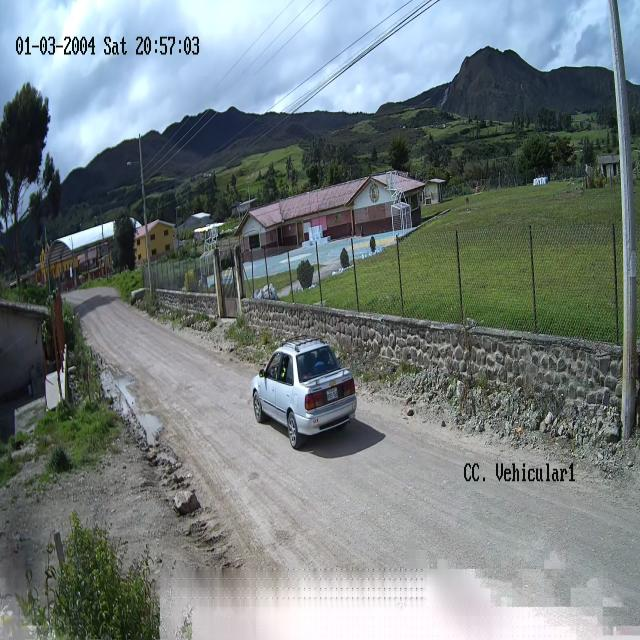SED: (251, 339, 357, 447)
